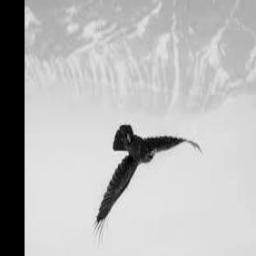Crow: (93, 124, 204, 245)
